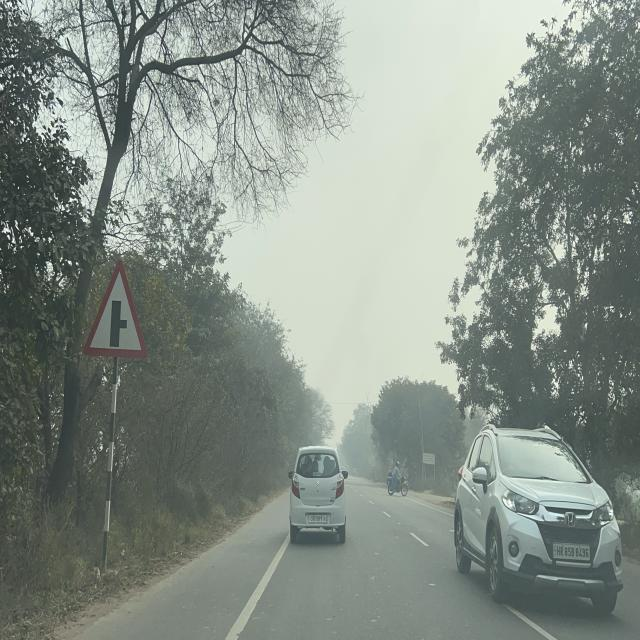SIDE_ROAD_RIGHT: (82, 256, 148, 362)
